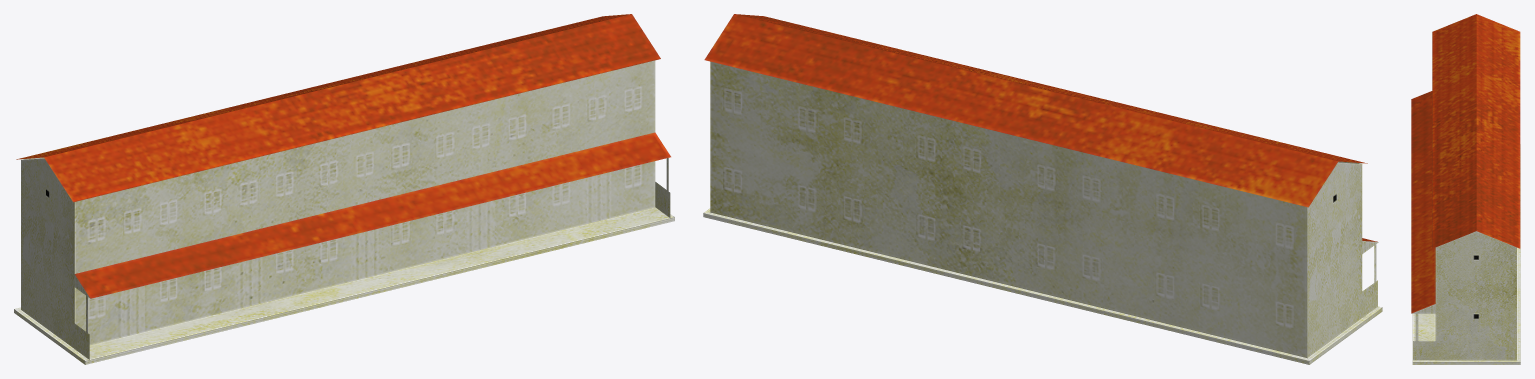
File: Teres_2_LOD_1.fbx
3 views of the same model, side by side, from view 1: azimuth 30°, elevation 25°; view 2: azimuth 150°, elevation 25°; view 3: azimuth 270°, elevation 25° (orthographic). The views are drawn at different scales.
Visible parts, largest first — view 1: Cube; view 2: Cube; view 3: Cube.
Boxes of the visible parts, x1,y1,x2,y2 form: Cube: [14, 14, 674, 364]; Cube: [703, 14, 1382, 364]; Cube: [1411, 14, 1520, 364].
Bounding box in the file's own units: 2538 × 726 × 537.
